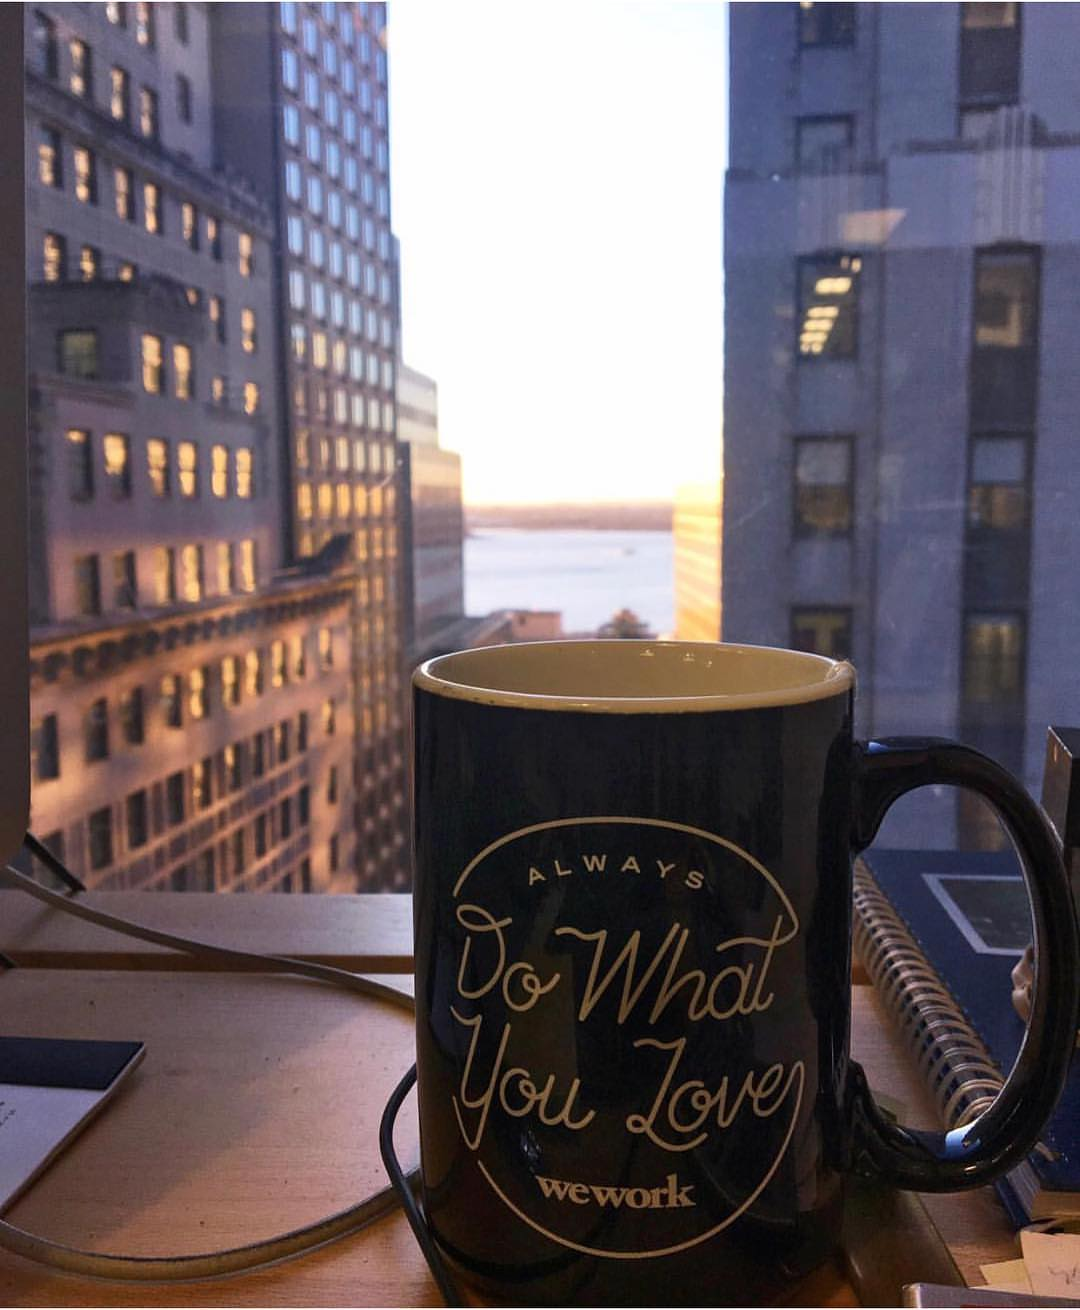wework: (529, 1165, 703, 1215)
